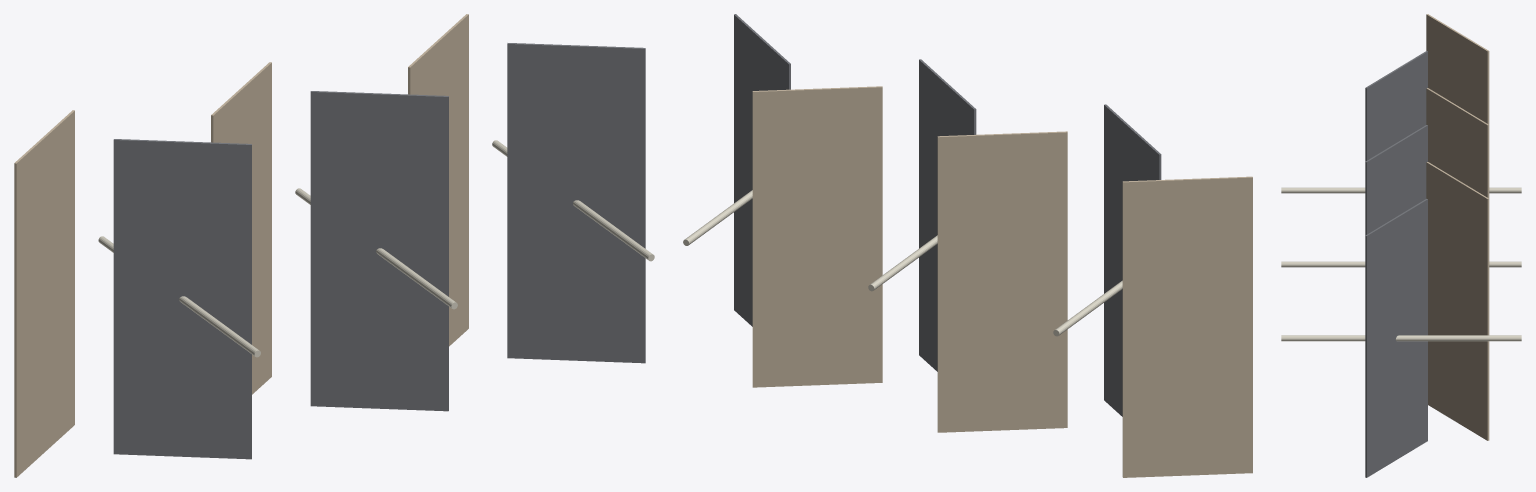
File: tess_lumen_screen.glb
3 views of the same model, side by side, from view 1: azimuth 30°, elevation 25°; view 2: azimuth 150°, elevation 25°; view 3: azimuth 270°, elevation 25° (orthographic). The views are drawn at different scales.
Parts seen in each view (by area): view 1: geometry_1, geometry_4, geometry_7, geometry_0, geometry_6, geometry_3, geometry_2, geometry_8, geometry_5; view 2: geometry_0, geometry_6, geometry_3, geometry_1, geometry_4, geometry_7, geometry_8, geometry_5, geometry_2; view 3: geometry_7, geometry_6, geometry_0, geometry_3, geometry_1, geometry_4, geometry_8, geometry_2, geometry_5.
Part boxes in pixels (x1,y1,x2,y2): geometry_1: (113, 139, 251, 459); geometry_4: (310, 91, 448, 411); geometry_7: (507, 43, 645, 363); geometry_0: (14, 110, 74, 477); geometry_6: (408, 14, 468, 346); geometry_3: (211, 62, 271, 394); geometry_2: (98, 236, 260, 357); geometry_8: (492, 140, 654, 261); geometry_5: (295, 188, 457, 309); geometry_0: (1122, 176, 1252, 477); geometry_6: (752, 86, 882, 387); geometry_3: (937, 131, 1067, 432); geometry_1: (1104, 104, 1161, 416); geometry_4: (919, 59, 976, 371); geometry_7: (734, 14, 790, 326); geometry_8: (683, 190, 752, 245); geometry_5: (868, 235, 937, 291); geometry_2: (1053, 280, 1122, 336); geometry_7: (1365, 199, 1427, 477); geometry_6: (1426, 162, 1489, 440); geometry_0: (1426, 14, 1489, 124); geometry_3: (1426, 88, 1489, 198); geometry_1: (1365, 51, 1427, 161); geometry_4: (1365, 125, 1427, 235); geometry_8: (1281, 335, 1521, 341); geometry_2: (1281, 187, 1521, 193); geometry_5: (1281, 261, 1521, 267).
Size of the model in its own units: 1.08 by 0.55 by 0.495.
